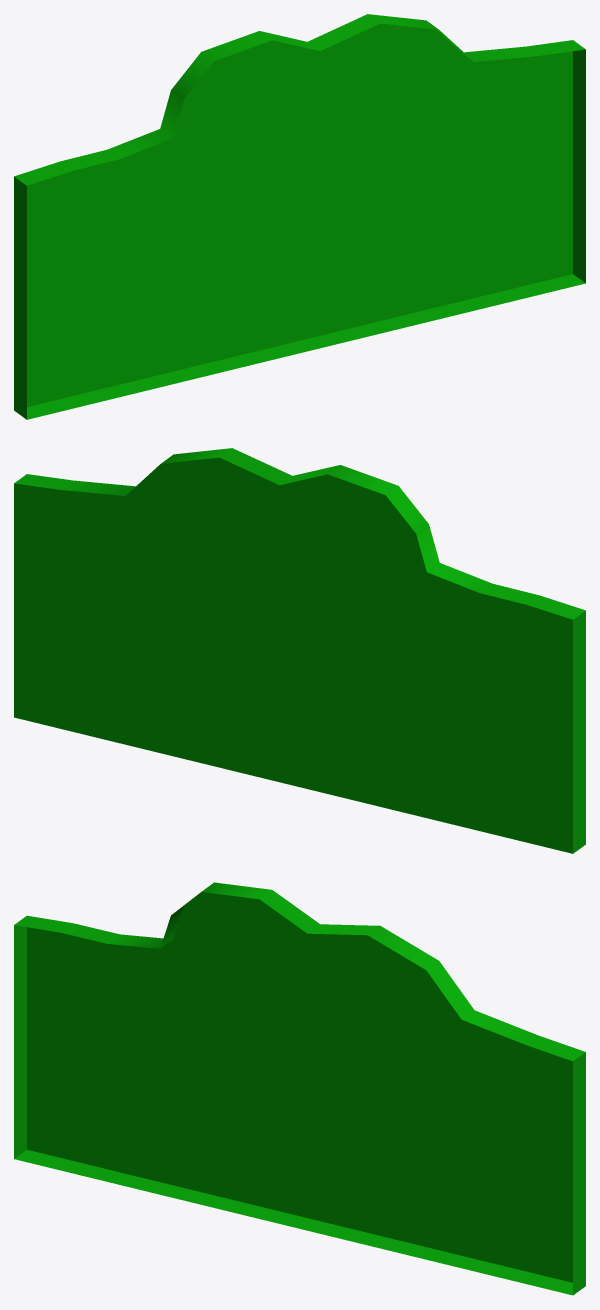
Rendered from ice cream ridge low res 2.fbx.
The picture shows the model from 3 angles, top to bottom: view 1: azimuth 30°, elevation 25°; view 2: azimuth 150°, elevation 25°; view 3: azimuth 330°, elevation 25°; orthographic projection.
Parts seen in each view (by area): view 1: ice_Cream_Ridge_terrain; view 2: ice_Cream_Ridge_terrain; view 3: ice_Cream_Ridge_terrain.
Boxes of the visible parts, <box> form: ice_Cream_Ridge_terrain: <box>14,14,585,419</box>; ice_Cream_Ridge_terrain: <box>14,448,585,853</box>; ice_Cream_Ridge_terrain: <box>14,882,585,1295</box>.
Bounding box in the file's own units: 25 × 13.66 × 1.
